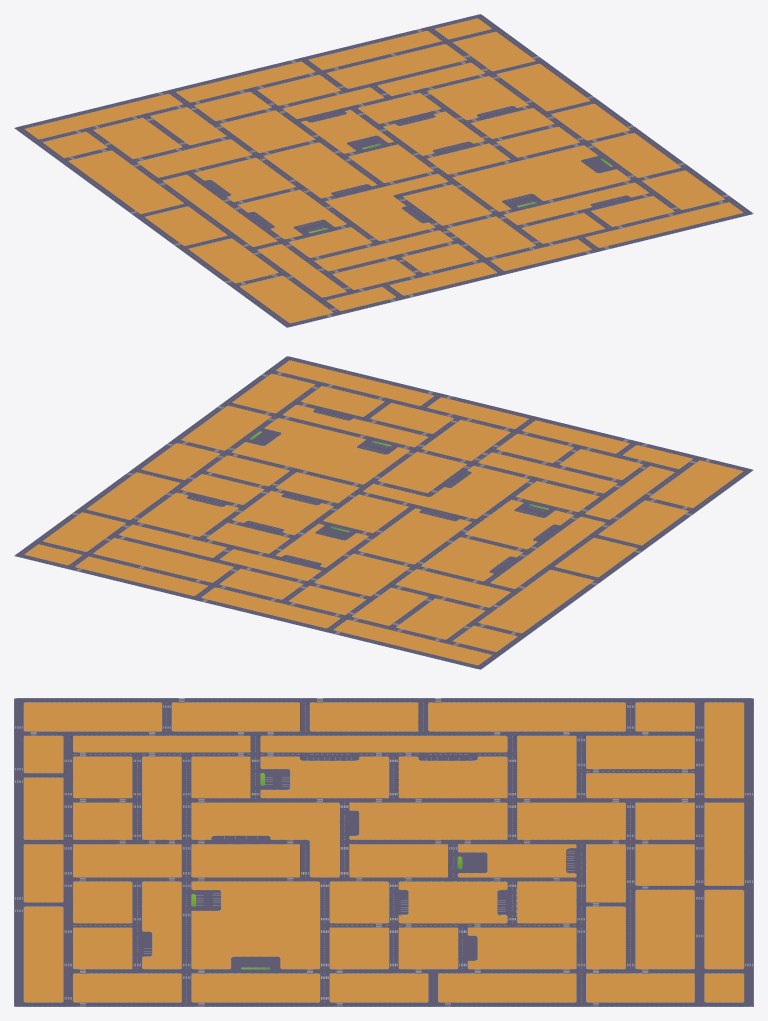
File: Roadss-B.fbx
3 renders of one model, top to bottom at view 1: azimuth 30°, elevation 25°; view 2: azimuth 150°, elevation 25°; view 3: azimuth 270°, elevation 25°, orthographic. The views are drawn at different scales.
Parts seen in each view (by area): view 1: Road_01, Road_02, Road_04, Road_03; view 2: Road_04, Road_03, Road_01, Road_02; view 3: Road_03, Road_01, Road_02, Road_04.
Boxes of the visible parts, left/top/right/bottom form: Road_01: left=247, top=14, right=616, bottom=170; Road_02: left=15, top=71, right=383, bottom=227; Road_04: left=384, top=114, right=752, bottom=270; Road_03: left=151, top=171, right=520, bottom=327; Road_04: left=151, top=356, right=520, bottom=512; Road_03: left=384, top=413, right=752, bottom=569; Road_01: left=15, top=456, right=383, bottom=612; Road_02: left=247, top=513, right=616, bottom=669; Road_03: left=14, top=698, right=383, bottom=852; Road_01: left=384, top=852, right=753, bottom=1006; Road_02: left=384, top=698, right=753, bottom=852; Road_04: left=14, top=852, right=383, bottom=1006.
Bounding box in the file's own units: 37014 × 37507 × 17.75.
